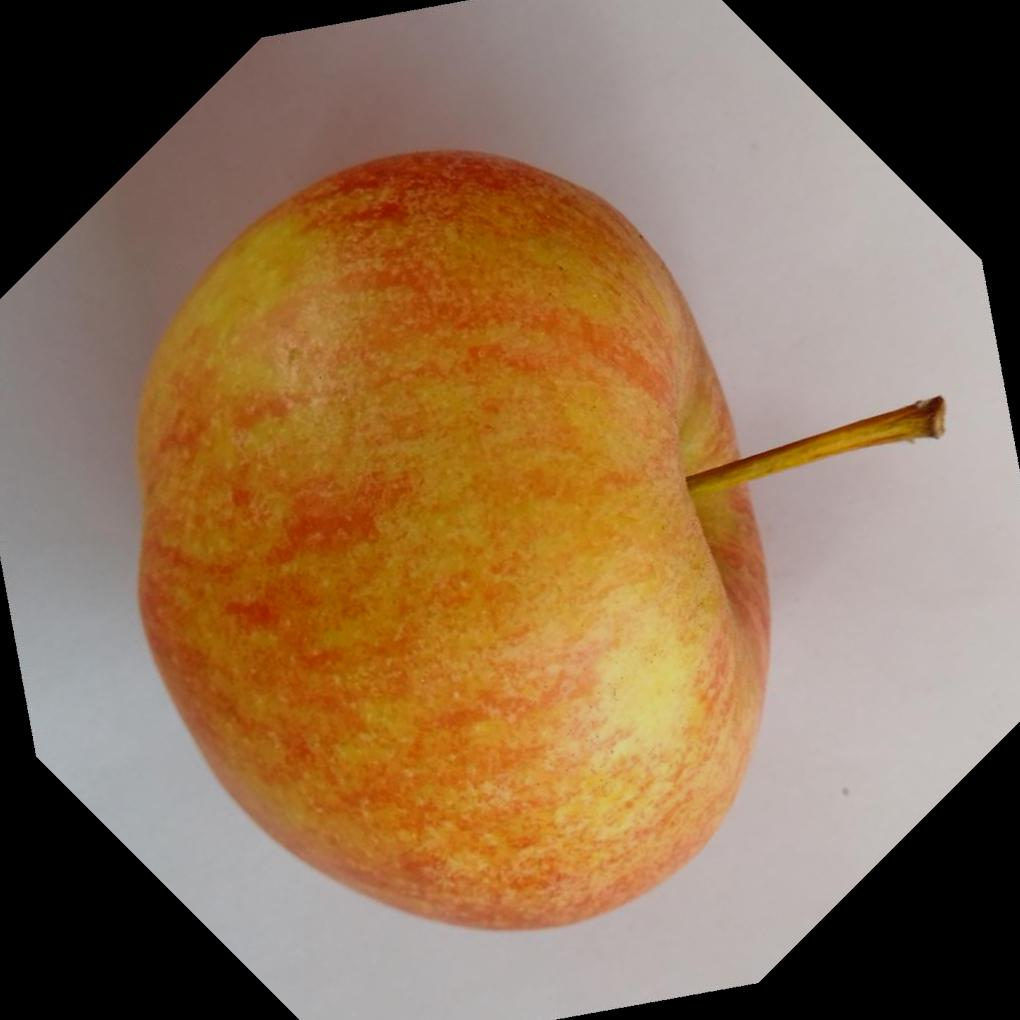FreshGuava: (129, 148, 768, 935)
